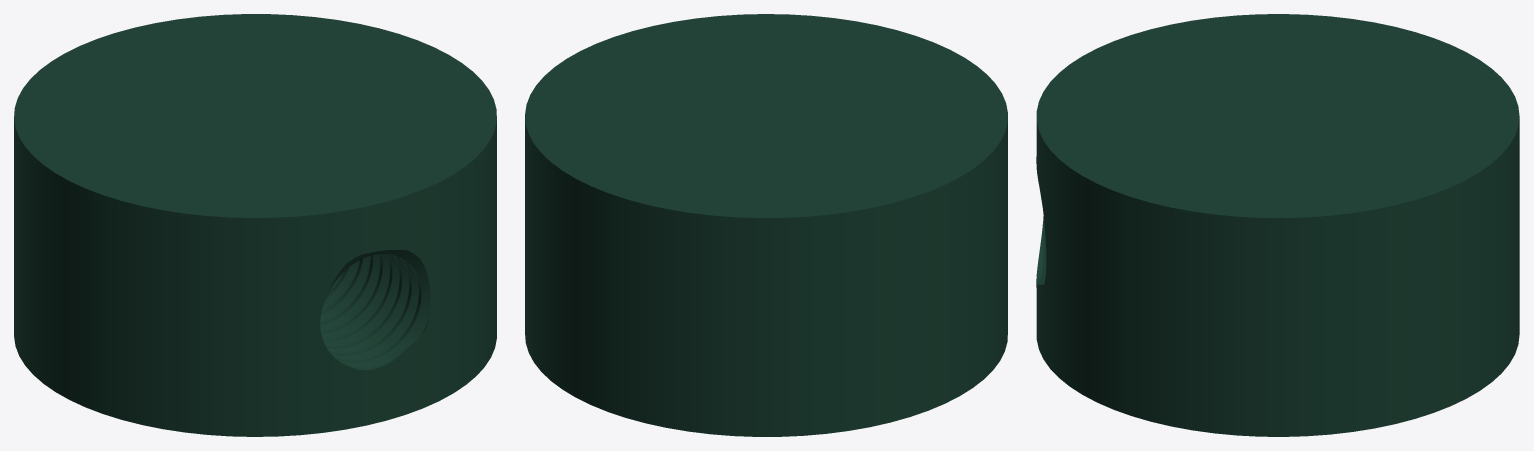
File: body4_visual.obj
The picture shows the model from 3 angles, left to right: view 1: azimuth 30°, elevation 25°; view 2: azimuth 150°, elevation 25°; view 3: azimuth 270°, elevation 25°; orthographic projection.
Parts seen in each view (by area): view 1: Body4; view 2: Body4; view 3: Body4.
Part boxes in pixels (left/top/right/bottom): Body4: left=14, top=14, right=496, bottom=436; Body4: left=525, top=14, right=1007, bottom=436; Body4: left=1036, top=14, right=1519, bottom=436.
Bounding box in the file's own units: 2 × 1 × 2.
